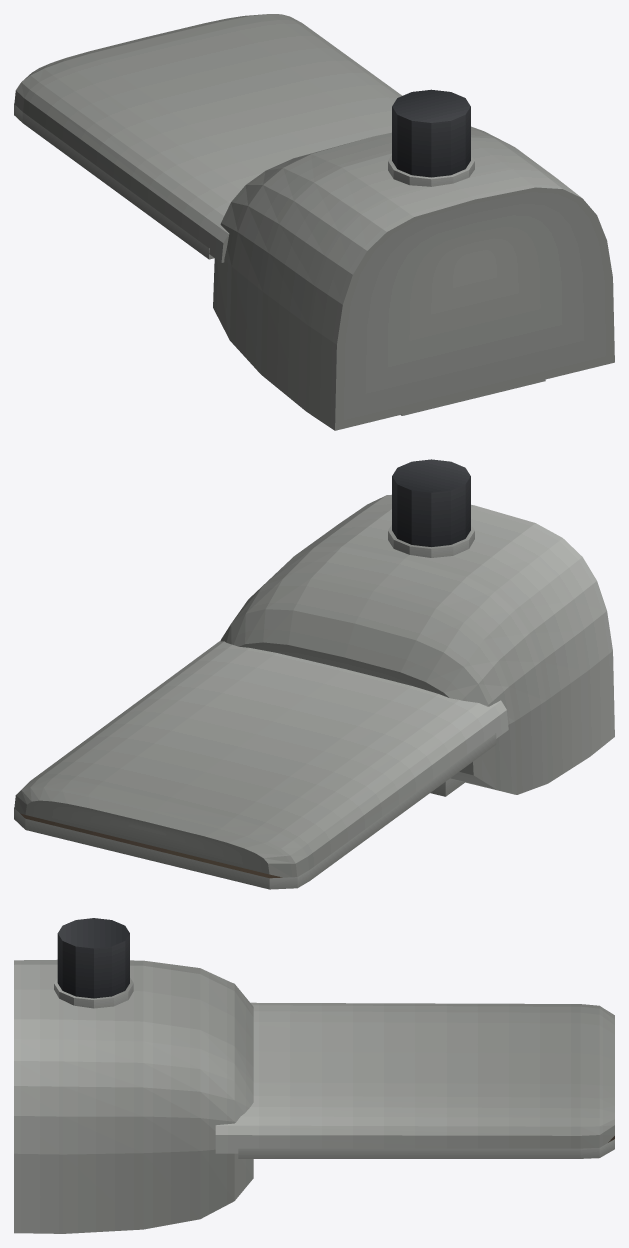
File: streetlight_creeledway.obj
The picture shows the model from 3 angles, top to bottom: view 1: azimuth 30°, elevation 25°; view 2: azimuth 150°, elevation 25°; view 3: azimuth 270°, elevation 25°; orthographic projection. The views are drawn at different scales.
Visible parts, largest first — view 1: fixture; view 2: fixture; view 3: fixture.
Boxes of the visible parts, x1,y1,x2,y2 form: fixture: (14, 14, 614, 430); fixture: (14, 459, 614, 889); fixture: (14, 918, 614, 1233).
Bounding box in the file's own units: 0.5 × 0.4344 × 0.9875.
